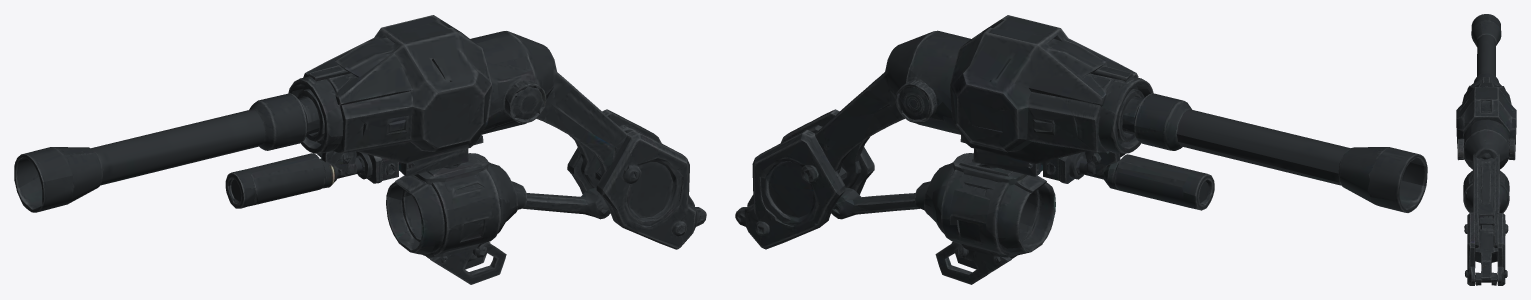
Rendered from mx_part_weapon.glb.
3 views of the same model, side by side, from view 1: azimuth 30°, elevation 25°; view 2: azimuth 150°, elevation 25°; view 3: azimuth 270°, elevation 25° (orthographic). The views are drawn at different scales.
Bounding box in the file's own units: 1.9 × 0.7284 × 0.3008.
1 material, 1 textured.
